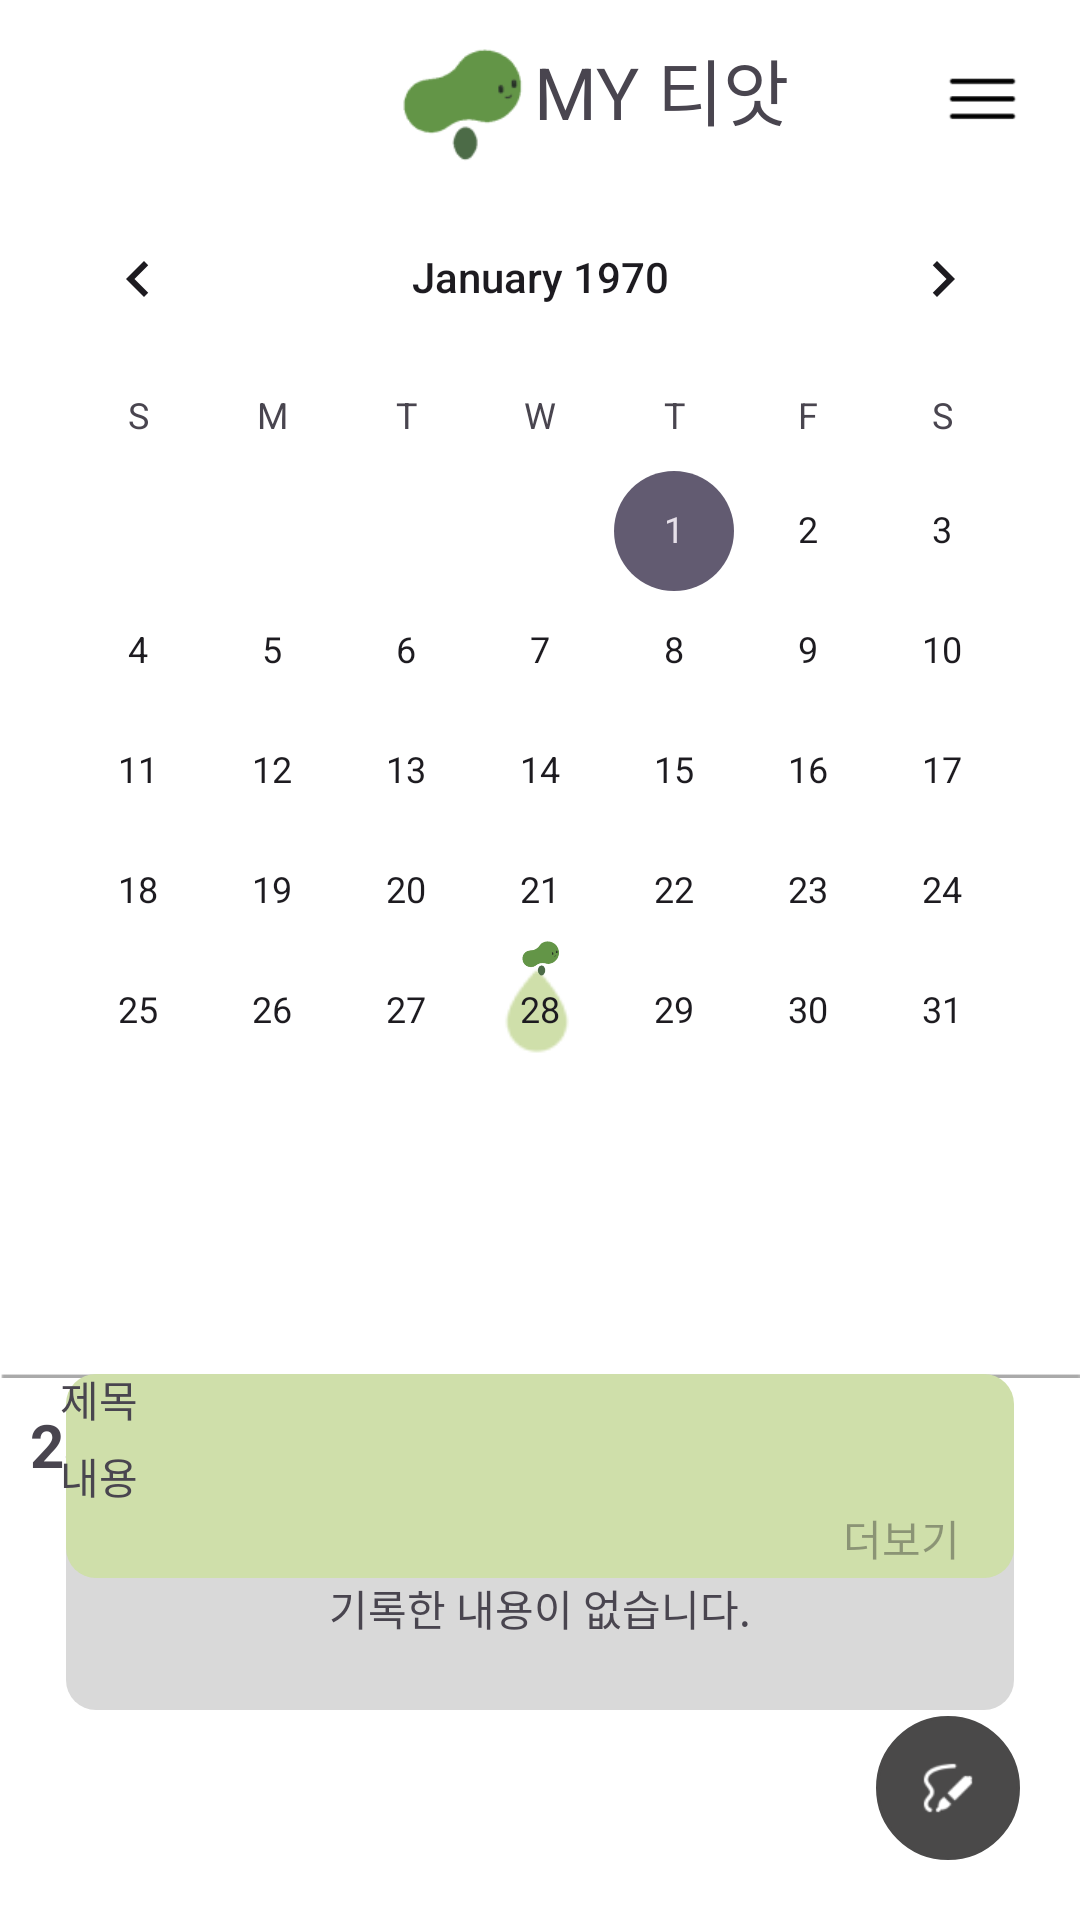

Named icons in this screenshot (1080px×1920px) and their centers, [x,y]:
calendar pen edit: [948,1788]
menu: [982,98]
